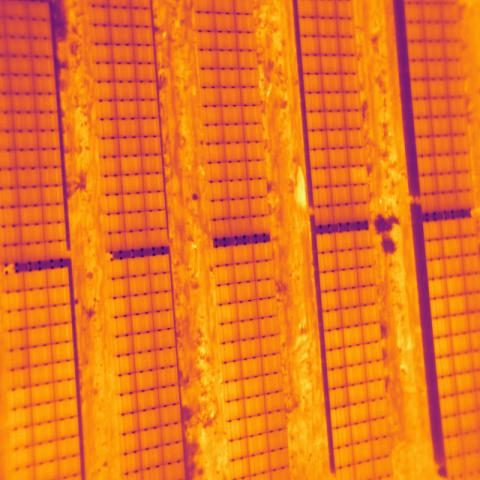fault: (349, 166, 368, 184)
